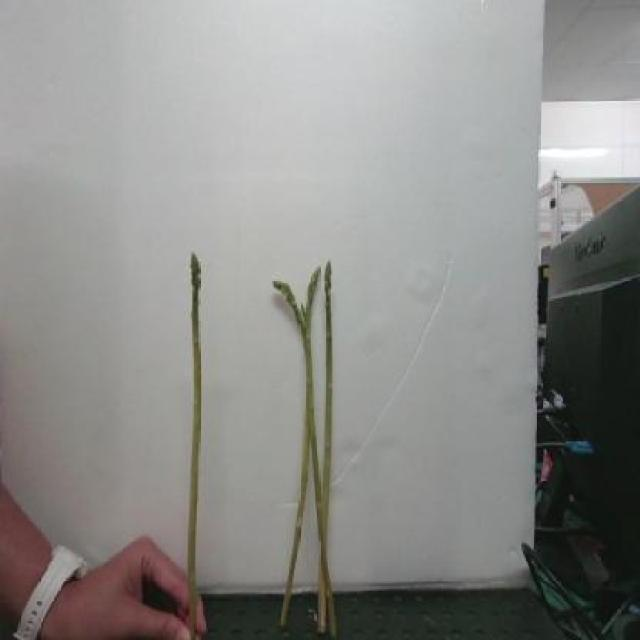aspargus: (183, 254, 203, 621)
